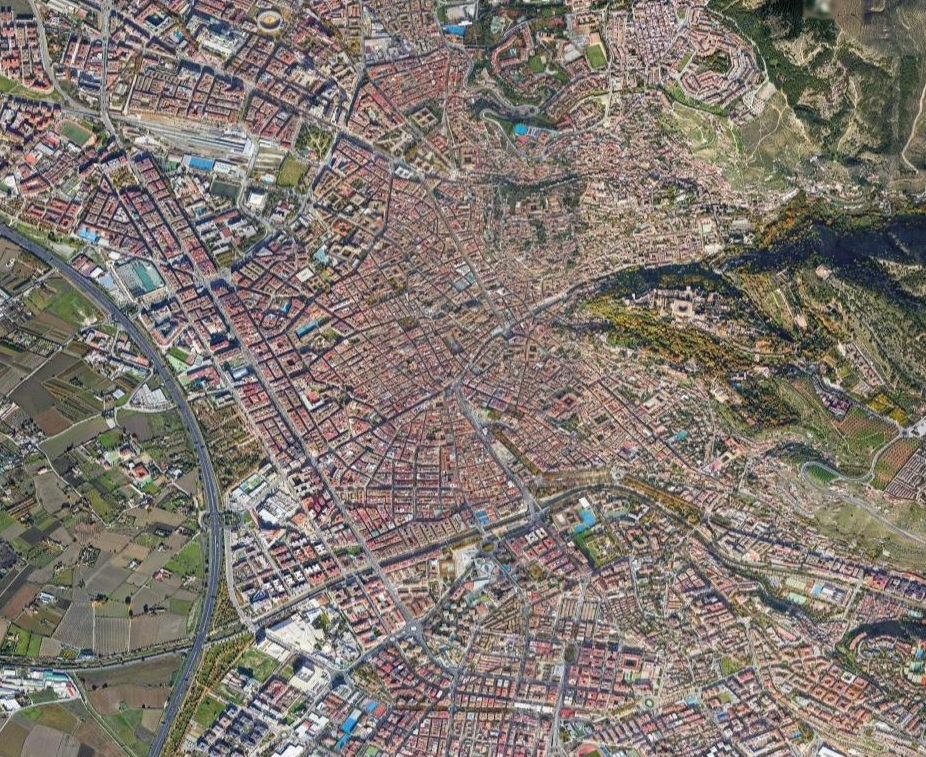motorway: (1, 211, 245, 757)
